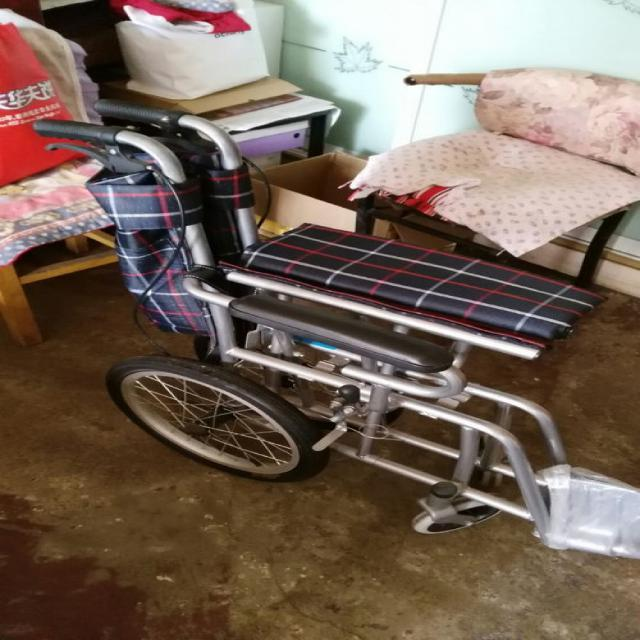wheelchair: (54, 77, 638, 580)
